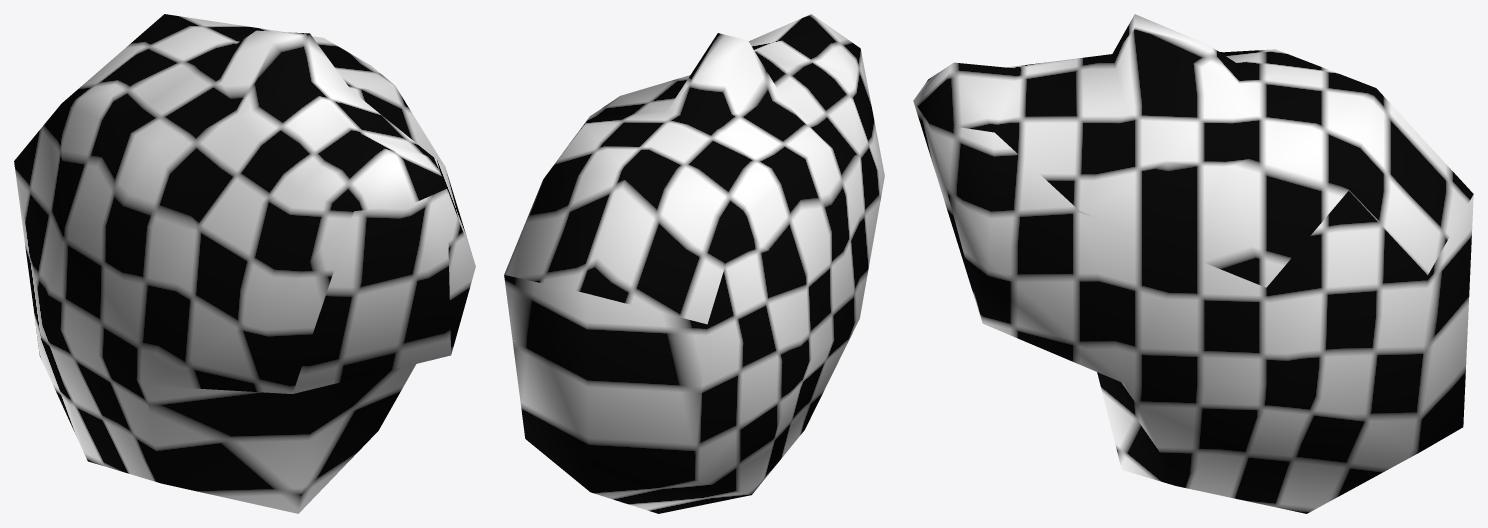
File: infaunhuma11.dae
3 renders of one model, left to right at view 1: azimuth 30°, elevation 25°; view 2: azimuth 150°, elevation 25°; view 3: azimuth 270°, elevation 25°, orthographic. The views are drawn at different scales.
Parts seen in each view (by area): view 1: face; view 2: face; view 3: face.
Part boxes in pixels (x1=…): face: x1=14, y1=14, x2=475, y2=513; face: x1=504, y1=14, x2=884, y2=513; face: x1=913, y1=14, x2=1473, y2=513.
Bounding box in the file's own units: 0.8535 × 1.33 × 1.27.
Materials: 1 (1 with a texture image).
